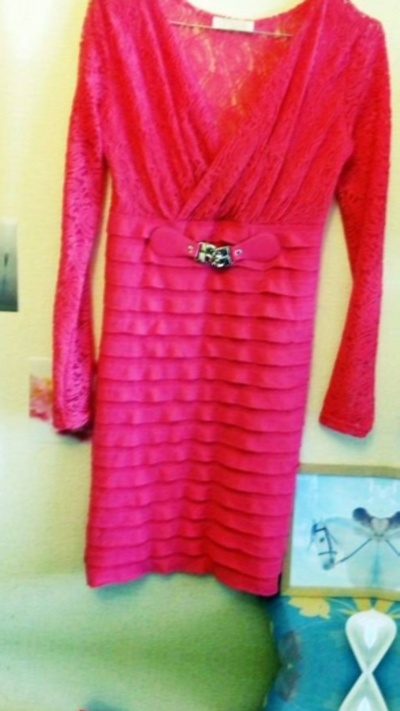Dress: (0, 0, 400, 645), (0, 668, 352, 711), (385, 0, 400, 678), (0, 0, 14, 612), (325, 701, 400, 711)
